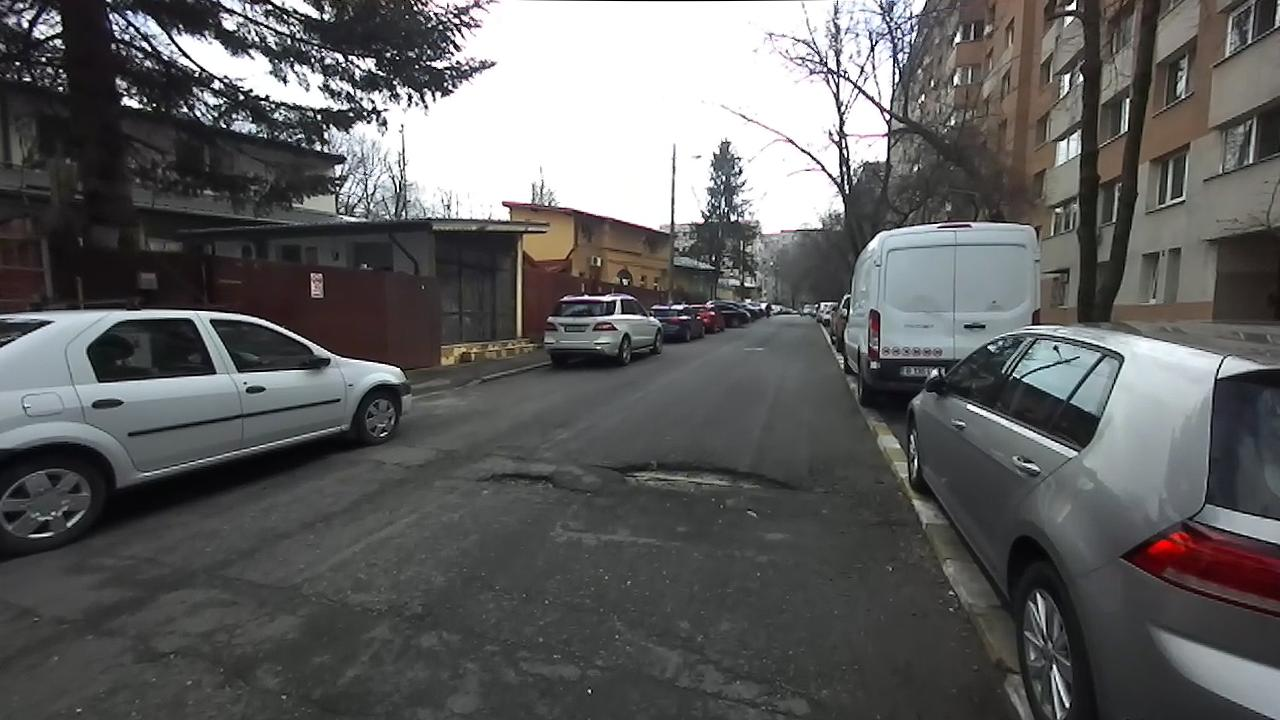pothole: (599, 458, 809, 502), (473, 469, 594, 500)
